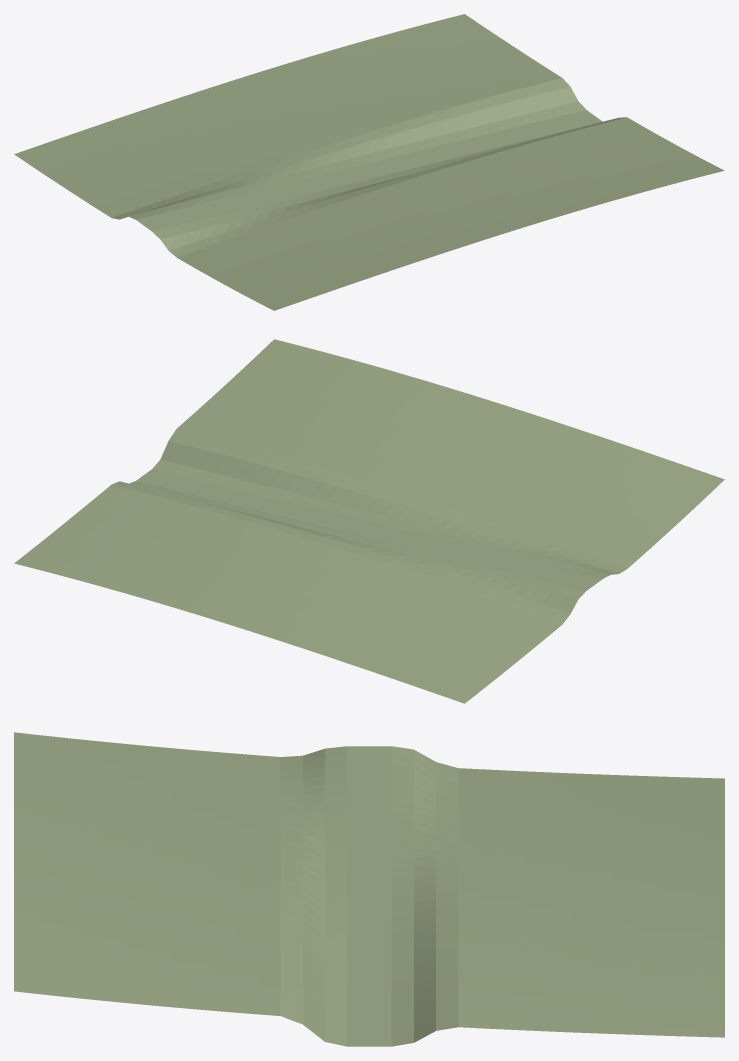
Rendered from valley-10-12.glb.
The picture shows the model from 3 angles, top to bottom: view 1: azimuth 30°, elevation 25°; view 2: azimuth 150°, elevation 25°; view 3: azimuth 270°, elevation 25°; orthographic projection. The views are drawn at different scales.
Visible parts, largest first — view 1: valley-10-12; view 2: valley-10-12; view 3: valley-10-12.
Part boxes in pixels (x1,y1,x2,y2): valley-10-12: (14,14,724,310); valley-10-12: (14,339,724,703); valley-10-12: (14,732,724,1046).
Bounding box in the file's own units: 256 × 34.79 × 256.
